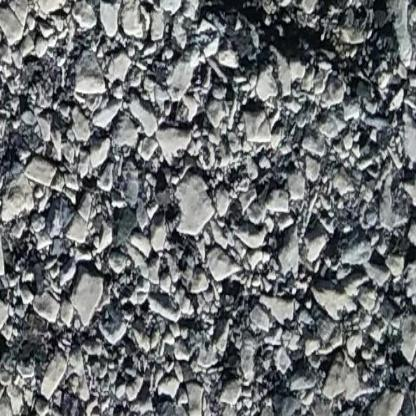Cracks: (196, 0, 415, 78)
